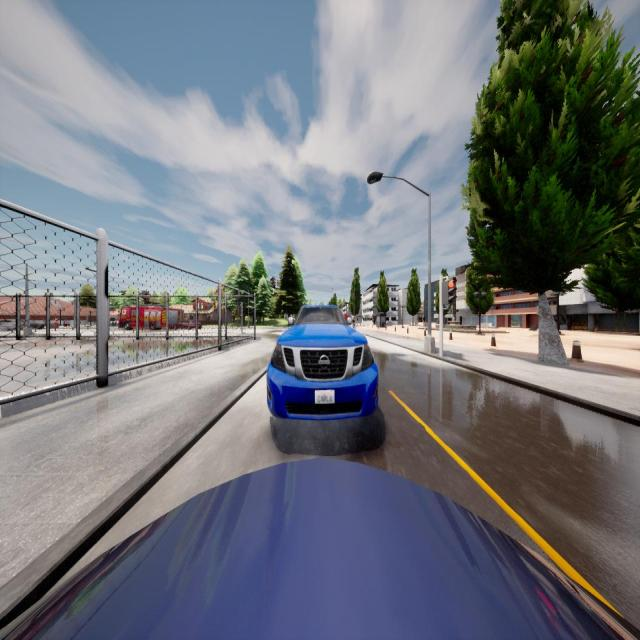Pedestrian: (52, 318, 58, 332)
Vehicle: (0, 457, 640, 640), (266, 305, 378, 419), (119, 306, 183, 330), (179, 318, 202, 331)
traffic_light: (442, 281, 456, 305), (238, 305, 242, 315)
